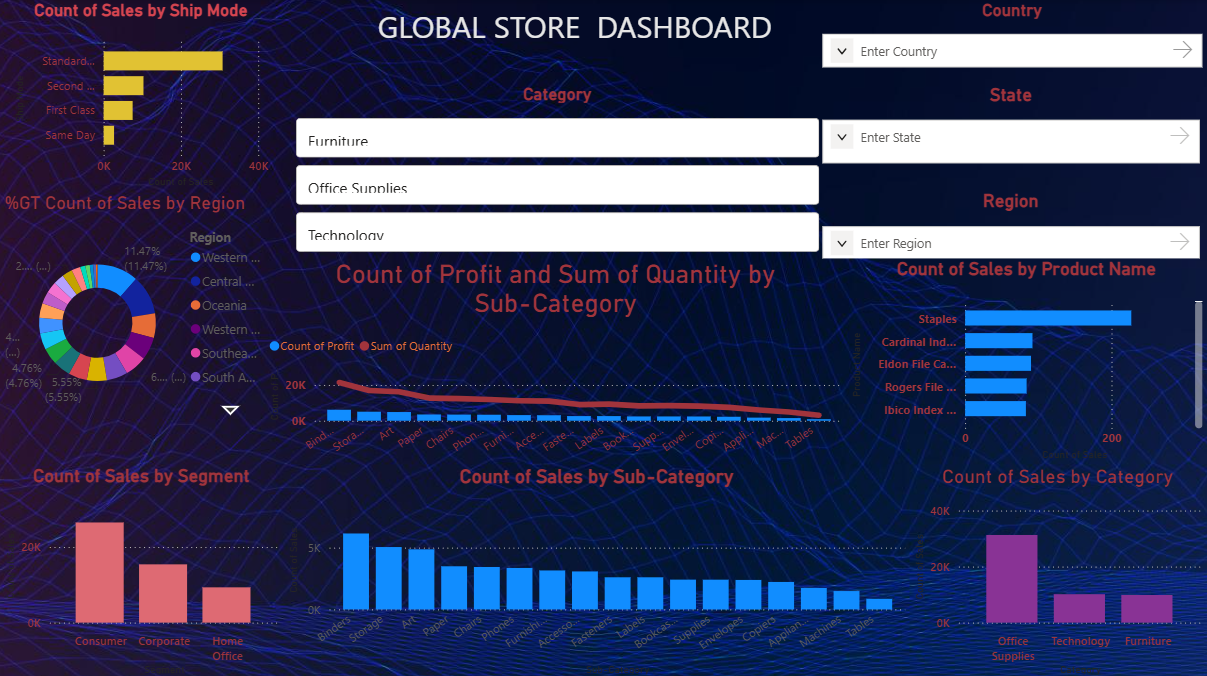

What the dashboard file says about the page in this screenshot:
{"tool":"powerbi","page":{"name":"Page 1","canvas":[1280,720],"ordinal":0},"visuals":[{"type":"barChart","fields":{"Y":["CountNonNull(GLOBAL FILE.Sales)"],"Category":["GLOBAL FILE.Ship Mode"]},"box":[10,0,280,202.9],"z":0},{"type":"donutChart","fields":{"Y":["CountNonNull(GLOBAL FILE.Sales)"],"Category":["GLOBAL FILE.Region"]},"box":[0,202.9,290,244.3],"z":1000},{"type":"columnChart","fields":{"Category":["GLOBAL FILE.Segment"],"Y":["CountNonNull(GLOBAL FILE.Sales)"]},"box":[0,492.9,300,227.1],"z":2000},{"type":"columnChart","fields":{"Category":["GLOBAL FILE.Category"],"Y":["CountNonNull(GLOBAL FILE.Sales)"]},"box":[964.3,492.9,315.7,227.1],"z":3000},{"type":"columnChart","fields":{"Category":["GLOBAL FILE.Sub-Category"],"Y":["CountNonNull(GLOBAL FILE.Sales)"]},"box":[300.5,493.2,664.3,227.1],"z":4000},{"type":"barChart","fields":{"Y":["CountNonNull(GLOBAL FILE.Sales)"],"Category":["GLOBAL FILE.Product Name"]},"box":[897.1,274.3,382.9,218.6],"z":5000},{"type":"lineStackedColumnComboChart","fields":{"Category":["GLOBAL FILE.Sub-Category"],"Y":["CountNonNull(GLOBAL FILE.Profit)"],"Y2":["Sum(GLOBAL FILE.Quantity)"]},"box":[279.7,274,618.6,218.6],"z":6000},{"type":"textSlicer","fields":{"Values":["GLOBAL FILE.Country"]},"box":[867.1,0,412.9,74.3],"z":7000},{"type":"textSlicer","fields":{"Values":["GLOBAL FILE.State"]},"box":[867.4,88.8,410.1,88.8],"z":8000},{"type":"textSlicer","fields":{"Values":["GLOBAL FILE.Region"]},"box":[867.4,202.2,410.1,71.8],"z":9000},{"type":"advancedSlicerVisual","fields":{"Values":["GLOBAL FILE.Category"]},"box":[308,88.8,565,185.2],"z":10000},{"type":"textbox","box":[300.5,0,566.9,73.7],"z":11000}]}

Visuals, with their boxes in screenshot pixels (x1, y1, x2, y2), scaled from the page's 1280x720 canvas onto the 1207x676 screenshot:
barChart - CountNonNull(GLOBAL FILE.Sales) x GLOBAL FILE.Ship Mode: x1=9 y1=0 x2=273 y2=191
donutChart - CountNonNull(GLOBAL FILE.Sales) x GLOBAL FILE.Region: x1=0 y1=191 x2=273 y2=420
columnChart - GLOBAL FILE.Segment x CountNonNull(GLOBAL FILE.Sales): x1=0 y1=463 x2=283 y2=675
columnChart - GLOBAL FILE.Category x CountNonNull(GLOBAL FILE.Sales): x1=909 y1=463 x2=1206 y2=675
columnChart - GLOBAL FILE.Sub-Category x CountNonNull(GLOBAL FILE.Sales): x1=283 y1=463 x2=910 y2=675
barChart - CountNonNull(GLOBAL FILE.Sales) x GLOBAL FILE.Product Name: x1=846 y1=258 x2=1206 y2=463
lineStackedColumnComboChart - GLOBAL FILE.Sub-Category x CountNonNull(GLOBAL FILE.Profit): x1=264 y1=257 x2=847 y2=462
textSlicer - GLOBAL FILE.Country: x1=818 y1=0 x2=1206 y2=70
textSlicer - GLOBAL FILE.State: x1=818 y1=83 x2=1205 y2=167
textSlicer - GLOBAL FILE.Region: x1=818 y1=190 x2=1205 y2=257
advancedSlicerVisual - GLOBAL FILE.Category: x1=290 y1=83 x2=823 y2=257
textbox: x1=283 y1=0 x2=818 y2=69
